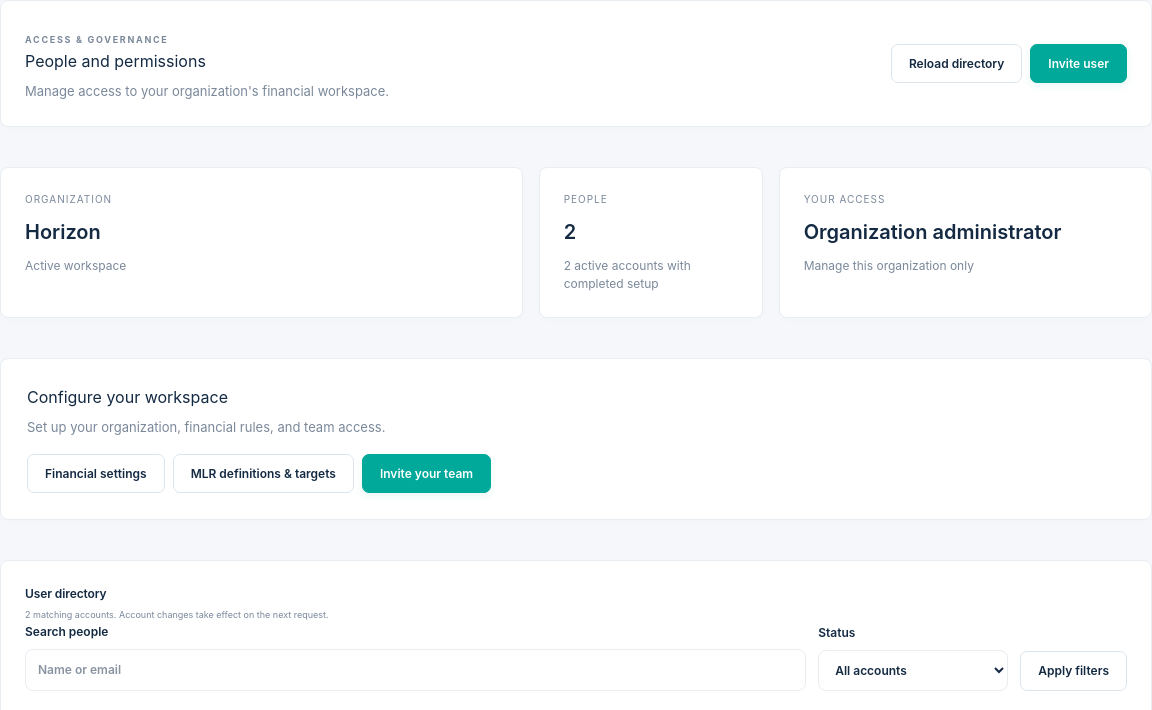
Scenario: Administration workspace › shows loading and completion when Reload directory is clicked
Click the button "Reload directory": (957, 63) x1=891 y1=44 x2=1022 y2=83
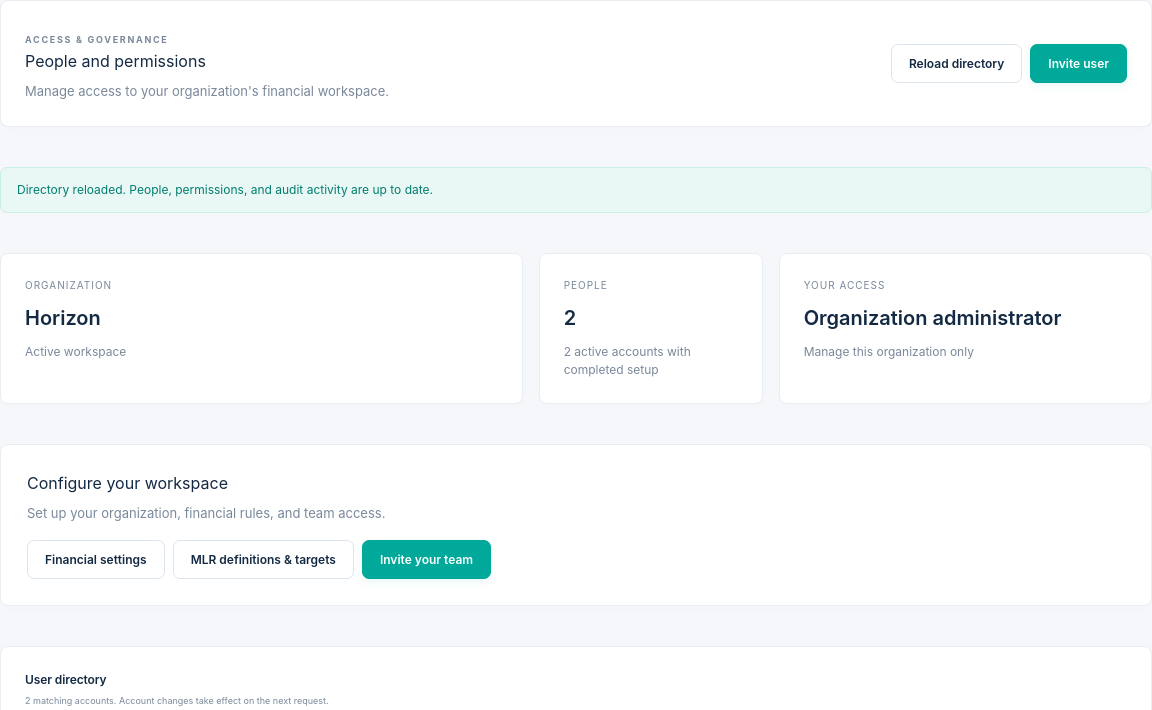
Now the message "Directory reloaded. People, permissions, and audit activity are up to date." is shown, box x1=0 y1=167 x2=1151 y2=213
